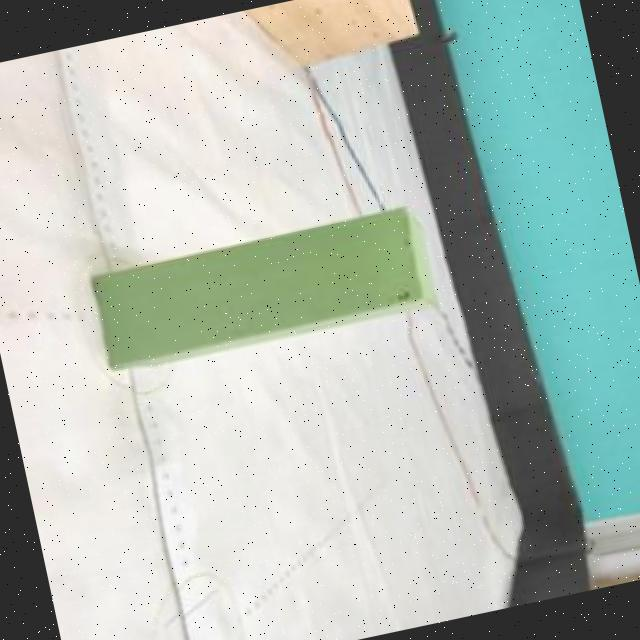greenbox: (94, 197, 444, 378)
